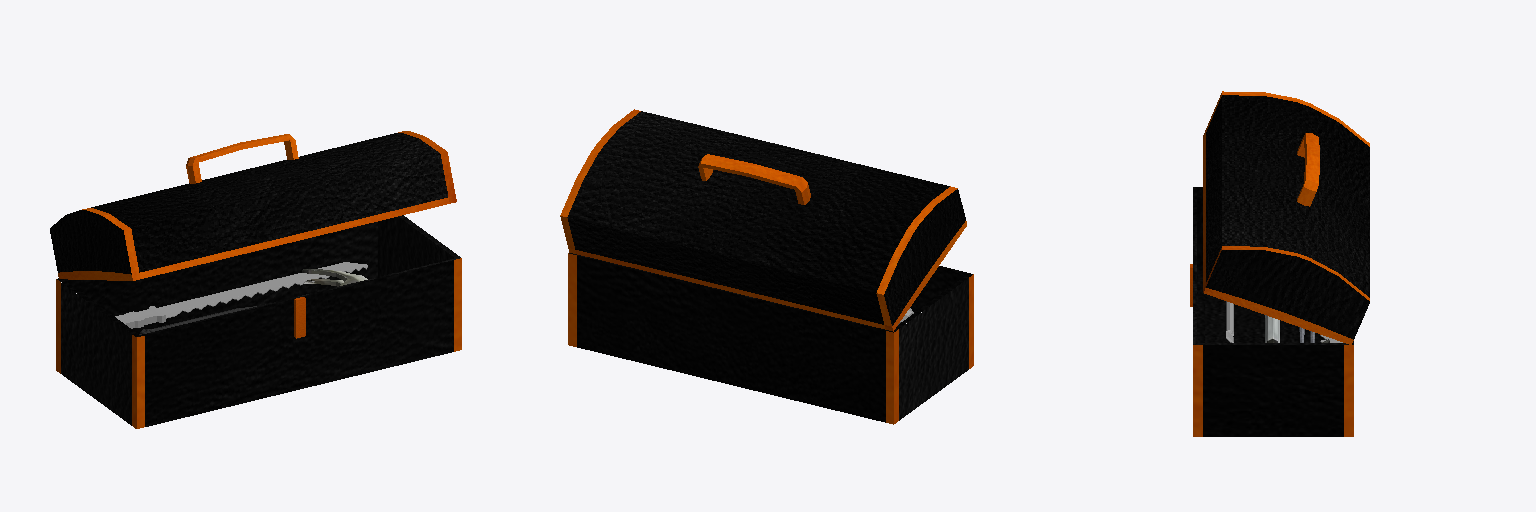
3 renders of one model, left to right at view 1: azimuth 30°, elevation 25°; view 2: azimuth 150°, elevation 25°; view 3: azimuth 270°, elevation 25°, orthographic.
Visible parts, largest first — view 1: toolBox_Plane, top_Cube.002, Saw_Cube.001, hamer_Cube.000; view 2: top_Cube.002, toolBox_Plane; view 3: top_Cube.002, toolBox_Plane.
Boxes of the visible parts, <box> form: toolBox_Plane: <box>56,215,461,428</box>; top_Cube.002: <box>50,131,456,280</box>; Saw_Cube.001: <box>115,262,367,328</box>; hamer_Cube.000: <box>139,269,367,334</box>; top_Cube.002: <box>560,109,966,331</box>; toolBox_Plane: <box>568,253,973,424</box>; top_Cube.002: <box>1203,91,1369,344</box>; toolBox_Plane: <box>1190,187,1353,436</box>.
Size of the model in its own units: 5.9 by 3.54 by 2.84.
6 materials, 4 textured.